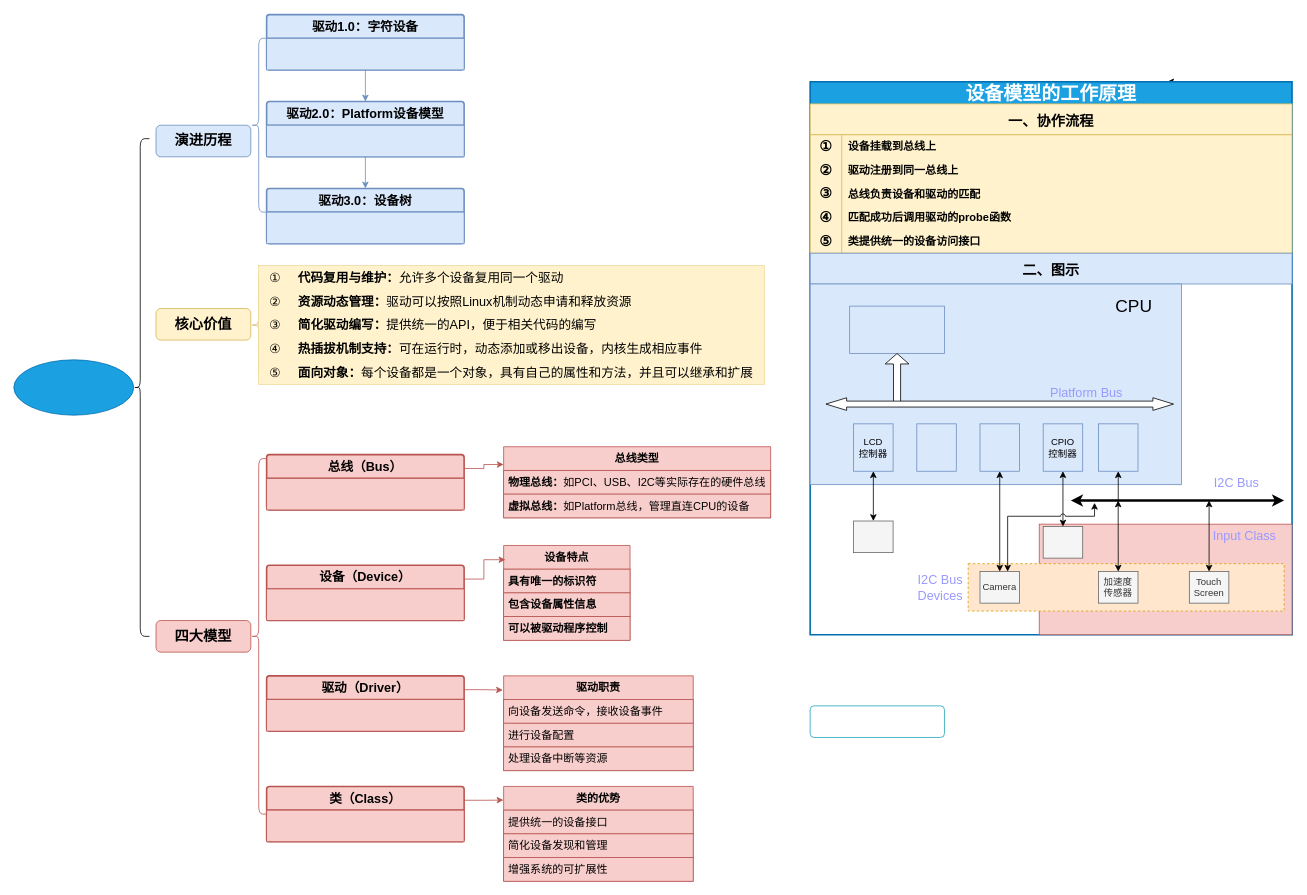
Image size: 1307x895. Some labels were removed from this diagram. The shapes that lost their labels are listed below. From the top down, each one's centre as x and y in pixels, then its label:
pixel 365 54: 在内核层，包含寄存器的操作，即驱动代码包含硬件资源
pixel 365 140: 硬件资源和驱动进行分离，即硬件资源写在dev相关代码
pixel 365 227: 进一步分离硬件和驱动，即硬件资源写在配置文件
pixel 896 329: ARM Core
pixel 73 387: 设备模型简介
pixel 936 447: UART 控制器
pixel 999 447: Camera 控制器
pixel 1118 447: I2C 控制器
pixel 365 494: 设备模型中的基础组件，用于链接和传输数据的通道
pixel 873 536: LCD
pixel 1062 542: Key
pixel 365 604: 系统中的硬件设备，如网卡、显示器、键盘等
pixel 365 715: 设备模型中的软件组件，用于控制和管理设备的操作
pixel 876 721: 🌻Make By Dakkk
pixel 365 825: 设备模型中的逻辑单元，用于 对具有相似功能和特性的设备进行分类和管理
